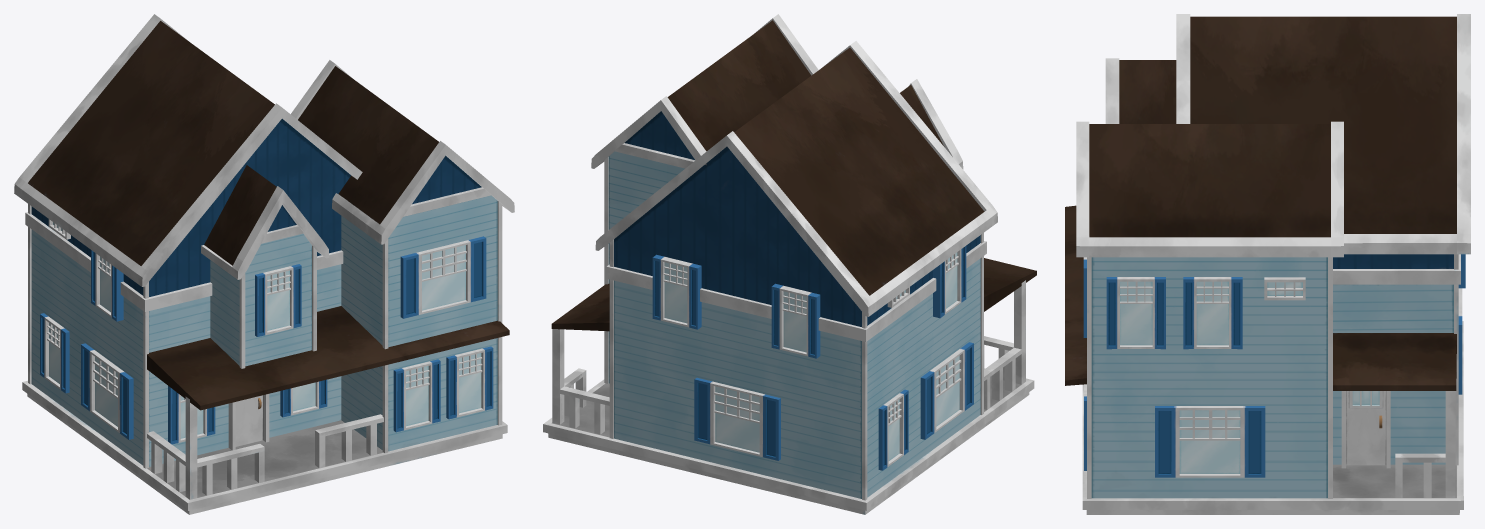
The model's file is building.gltf.
The picture shows the model from 3 angles, left to right: view 1: azimuth 30°, elevation 25°; view 2: azimuth 150°, elevation 25°; view 3: azimuth 270°, elevation 25°; orthographic projection. The views are drawn at different scales.
Visible parts, largest first — view 1: House1Body, House1Windows, House1Dormer, House1Porches, House1SideBeams, House1Beams, House1Doors; view 2: House1Body, House1Windows, House1Porches, House1Beams, House1SideBeams, House1Dormer; view 3: House1Body, House1Windows, House1Dormer, House1Doors, House1SideBeams, House1Porches, House1Beams.
Part boxes in pixels (x1,y1,x2,y2): House1Body: (14,14,514,514); House1Windows: (40,219,493,444); House1Dormer: (201,165,329,366); House1Porches: (147,396,383,499); House1SideBeams: (28,201,502,468); House1Beams: (25,187,491,311); House1Doors: (228,394,269,450); House1Body: (543,14,1036,514); House1Windows: (652,246,973,470); House1Porches: (552,280,1025,434); House1Beams: (606,143,986,341); House1SideBeams: (604,157,983,500); House1Dormer: (900,79,963,169); House1Body: (1065,14,1470,514); House1Windows: (1083,254,1465,477); House1Dormer: (1105,58,1176,123); House1Doors: (1341,391,1390,468); House1SideBeams: (1087,254,1458,498); House1Porches: (1395,391,1455,497); House1Beams: (1333,254,1460,284).
Size of the model in its own units: 570 by 573 by 528.
Materials: 1 (1 with a texture image).
